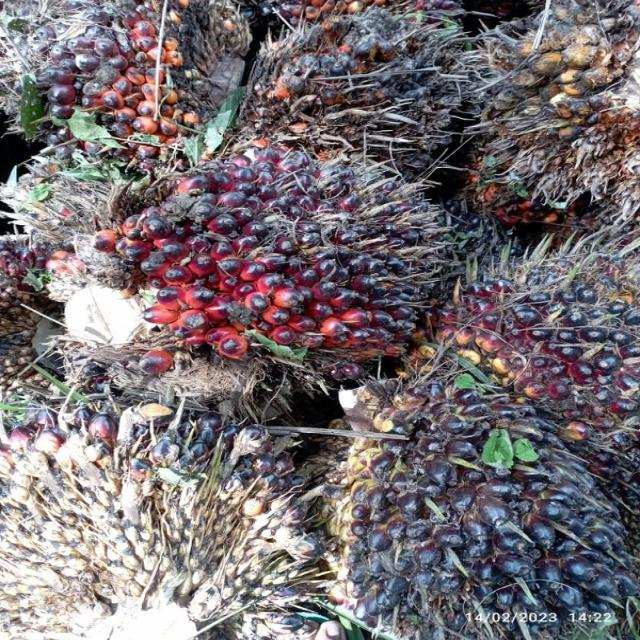fraksi 00: (341, 357, 638, 640), (277, 0, 518, 171)
fraksi 1: (80, 132, 443, 383)
